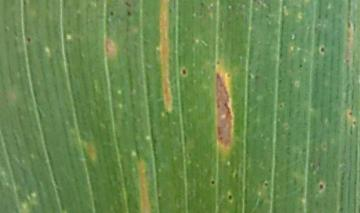tarspot: (107, 9, 116, 18), (180, 67, 188, 77), (227, 194, 235, 203), (318, 181, 325, 190), (318, 46, 326, 53), (226, 69, 231, 80), (26, 36, 33, 43), (263, 181, 269, 188), (127, 11, 133, 17), (298, 63, 304, 69), (210, 178, 215, 185), (348, 110, 353, 116), (351, 120, 357, 125), (215, 60, 220, 65)
